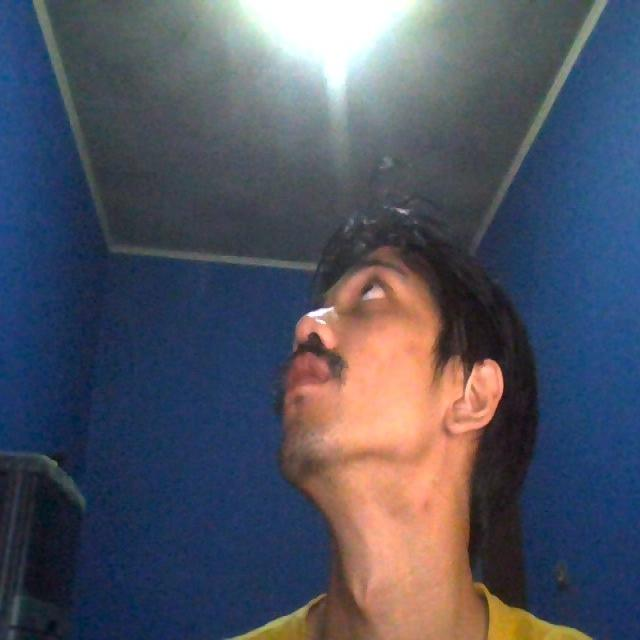Melihat kekanan: (228, 212, 552, 568)
